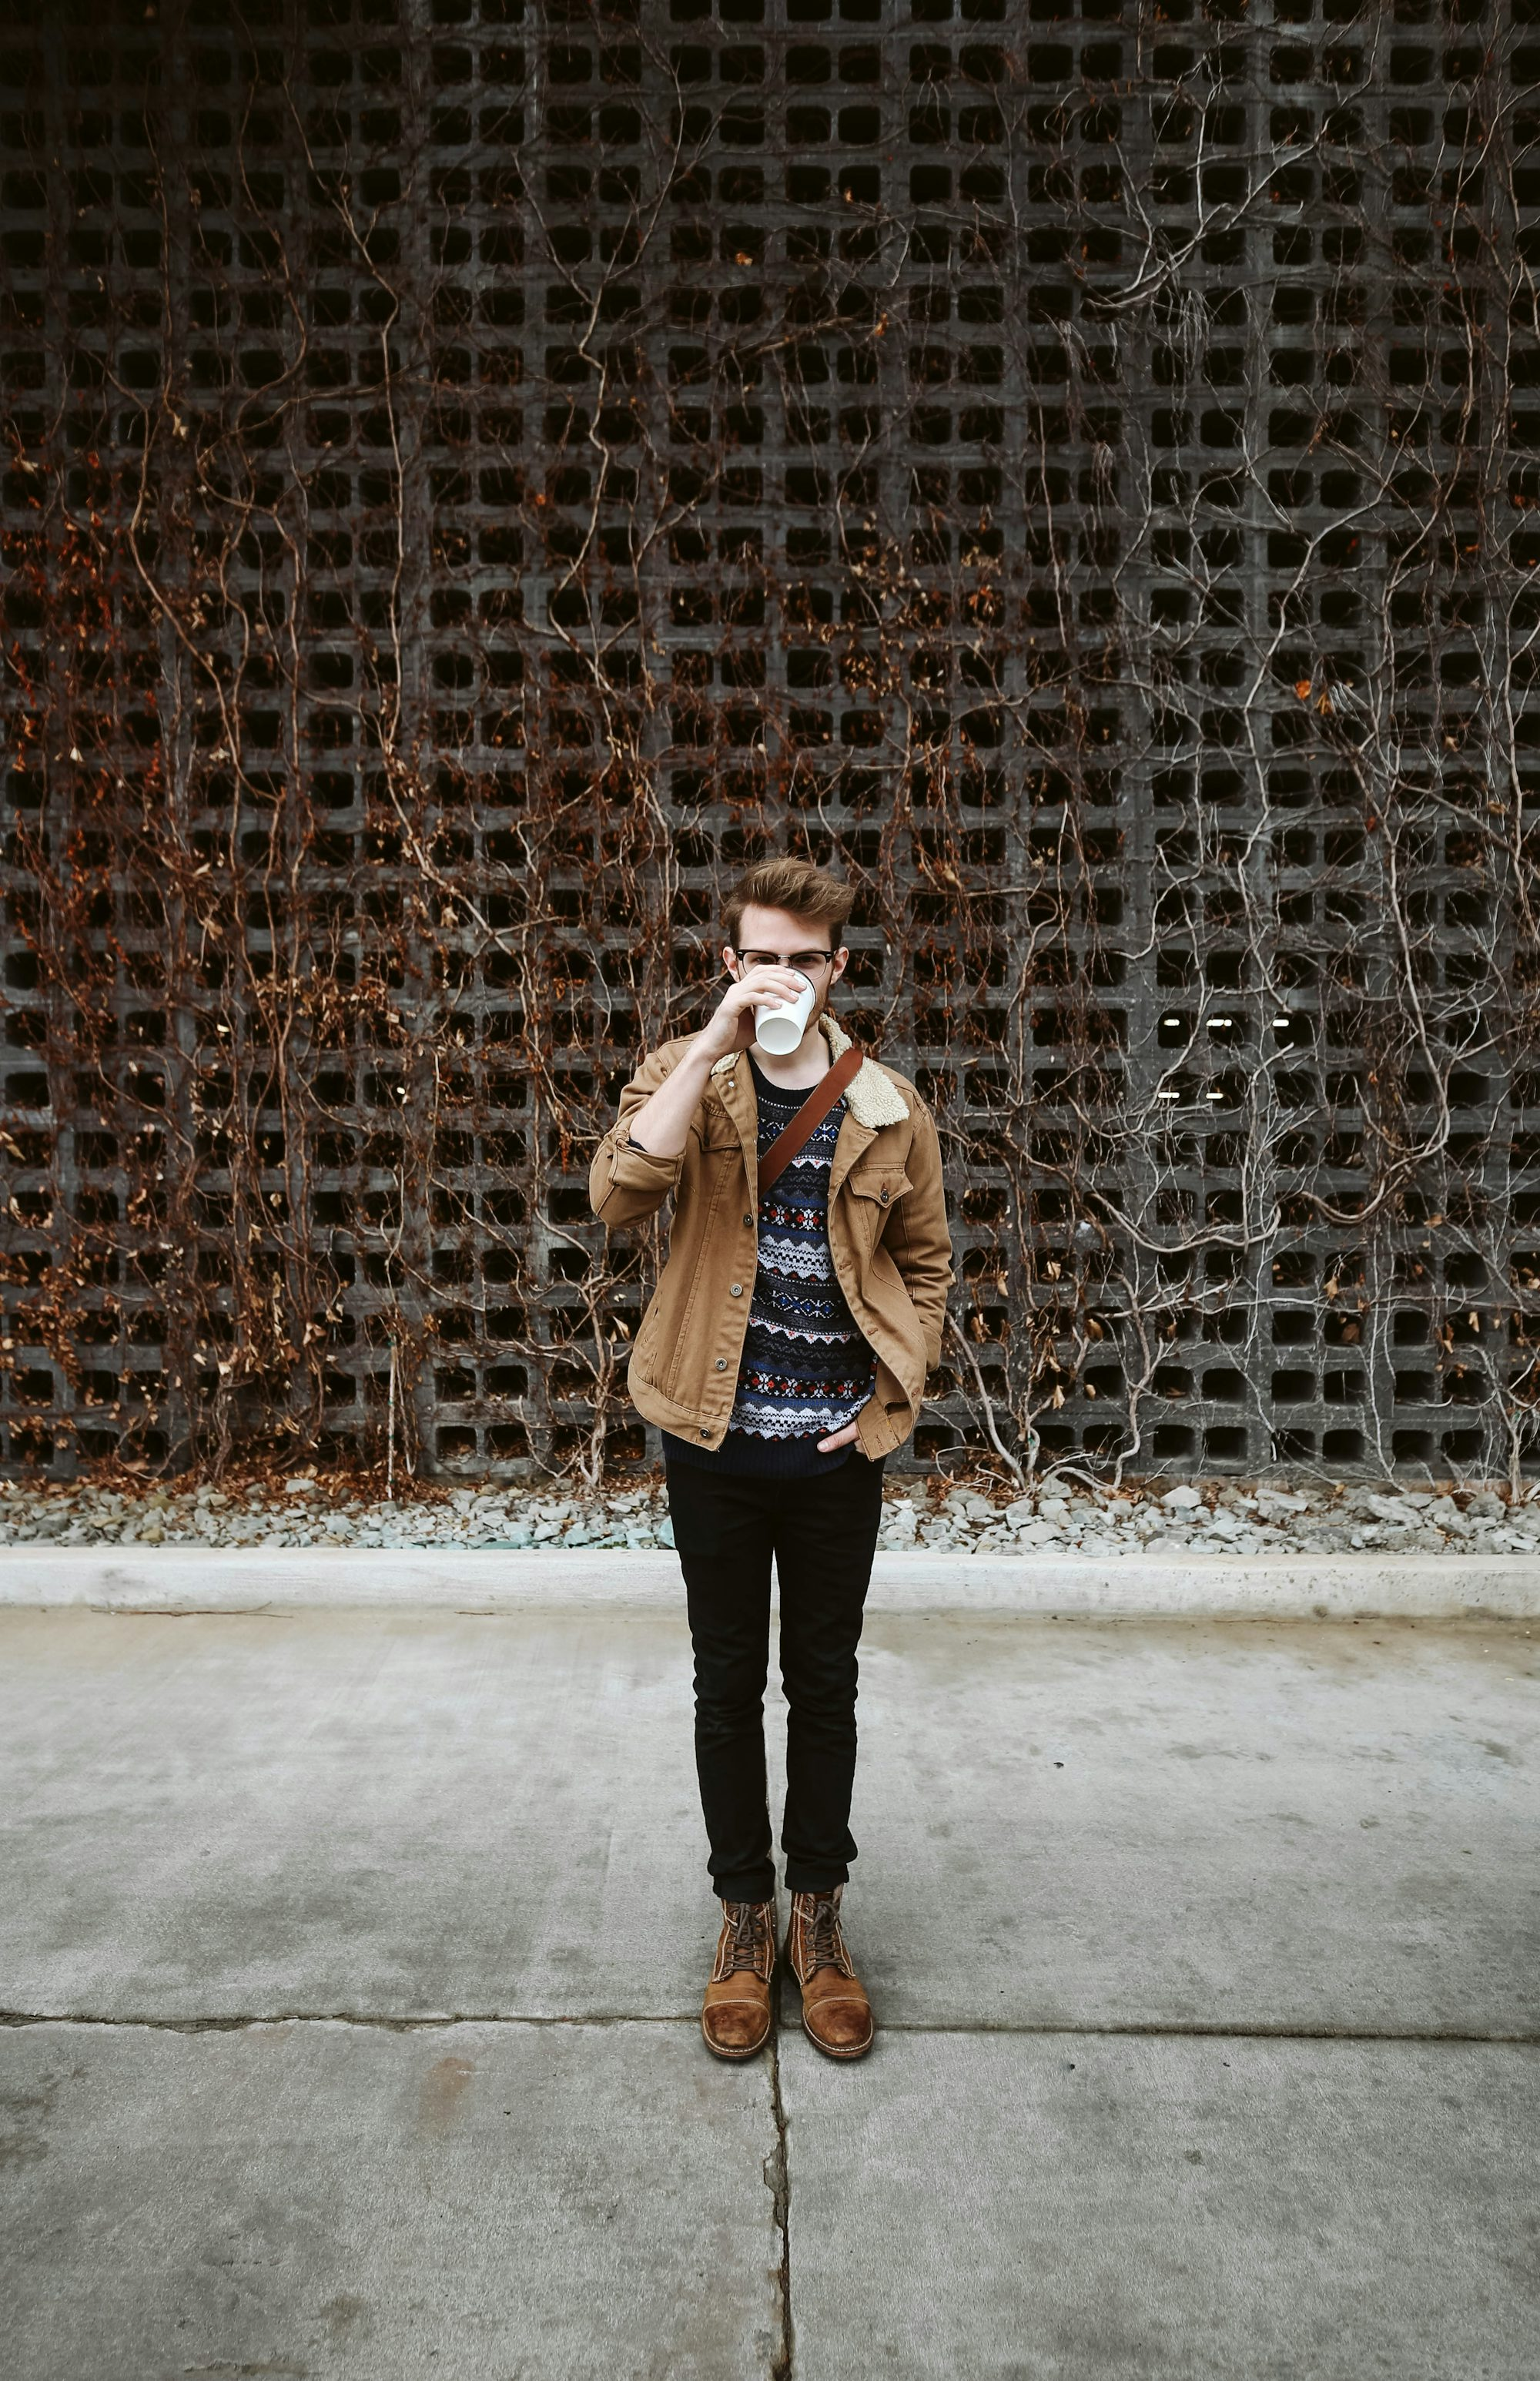person: (517, 837, 1102, 2104)
